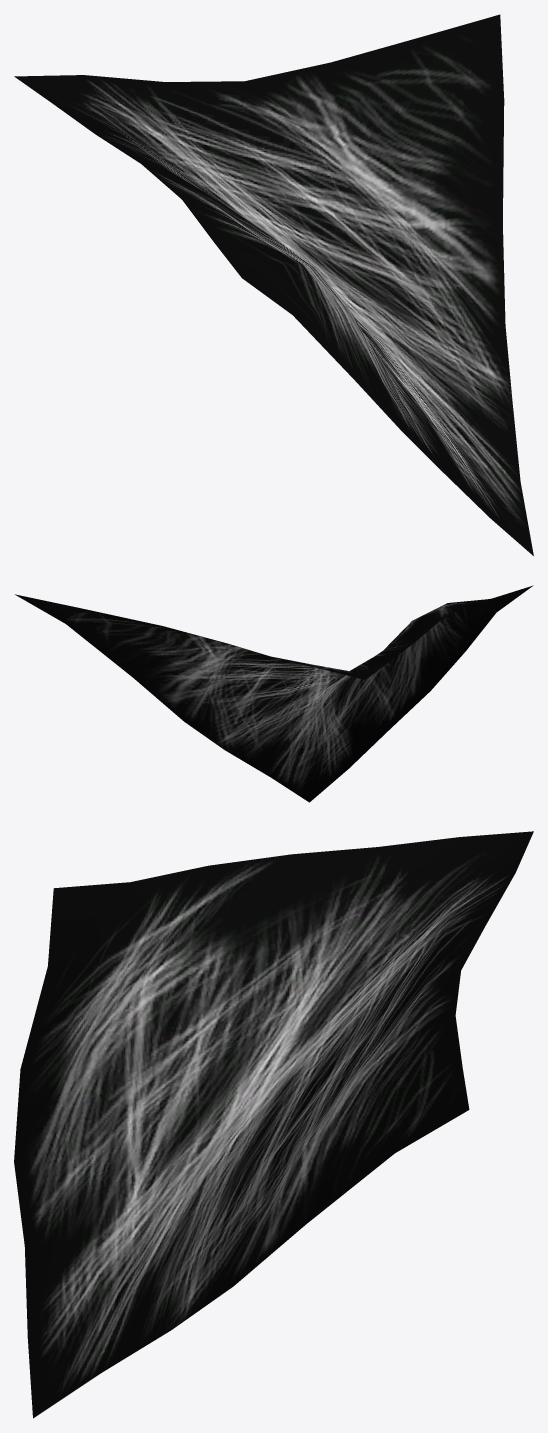
File: SWORDLIGHT20_PS-AREA01_CORNERWEB05.fbx
3 views of the same model, one above another, from view 1: azimuth 30°, elevation 25°; view 2: azimuth 150°, elevation 25°; view 3: azimuth 270°, elevation 25° (orthographic). The views are drawn at different scales.
Visible parts, largest first — view 1: SWORDLIGHT20_PS-AREA01_CORNERWEB05; view 2: SWORDLIGHT20_PS-AREA01_CORNERWEB05; view 3: SWORDLIGHT20_PS-AREA01_CORNERWEB05.
Boxes of the visible parts, x1=… form: SWORDLIGHT20_PS-AREA01_CORNERWEB05: x1=14, y1=14, x2=533, y2=555; SWORDLIGHT20_PS-AREA01_CORNERWEB05: x1=15, y1=585, x2=533, y2=802; SWORDLIGHT20_PS-AREA01_CORNERWEB05: x1=14, y1=831, x2=533, y2=1418.
Bounding box in the file's own units: 67216 × 54295 × 59744.
1 material, 1 textured.
